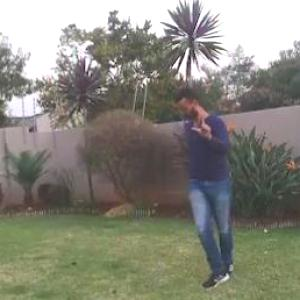land_hand: (191, 108, 214, 142)
